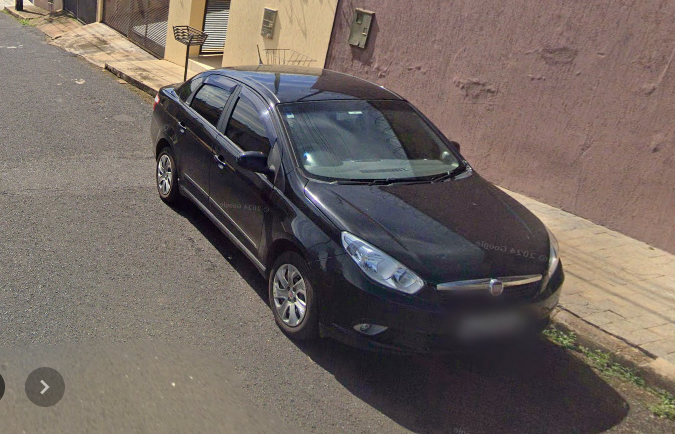car: (144, 43, 570, 363)
